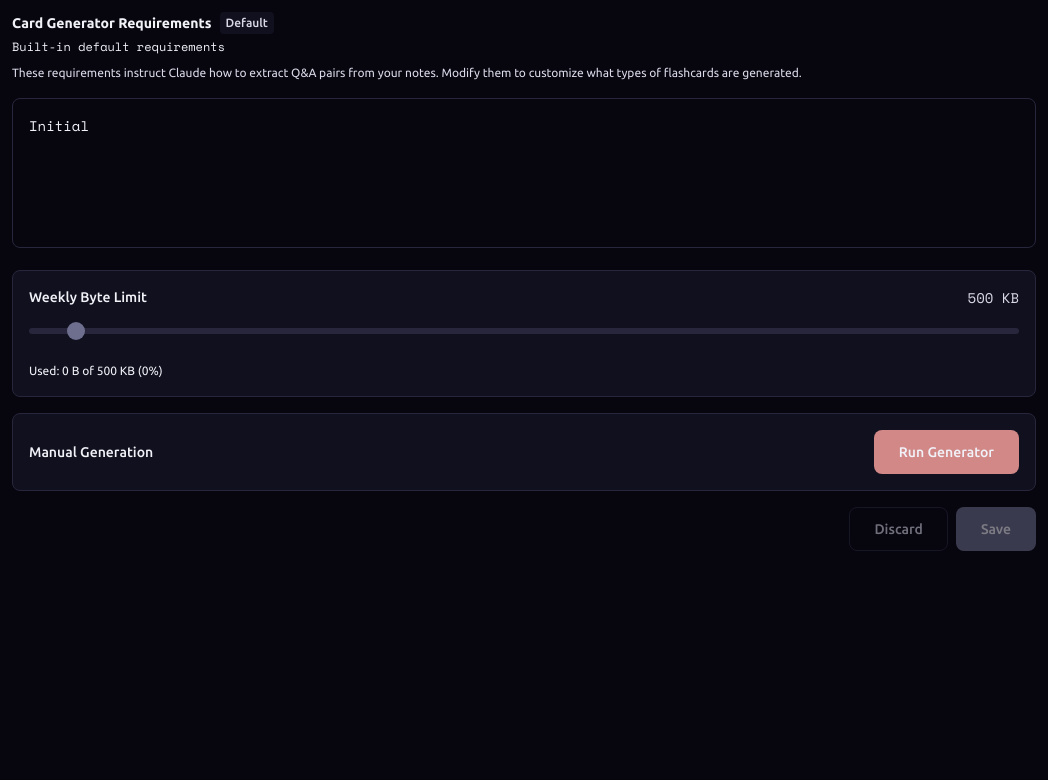
CardGeneratorEditor › saving › shows error on save failure
// Edit and save
Replace the text in the text box with "New content" at (524, 173), box [12, 98, 1036, 248]
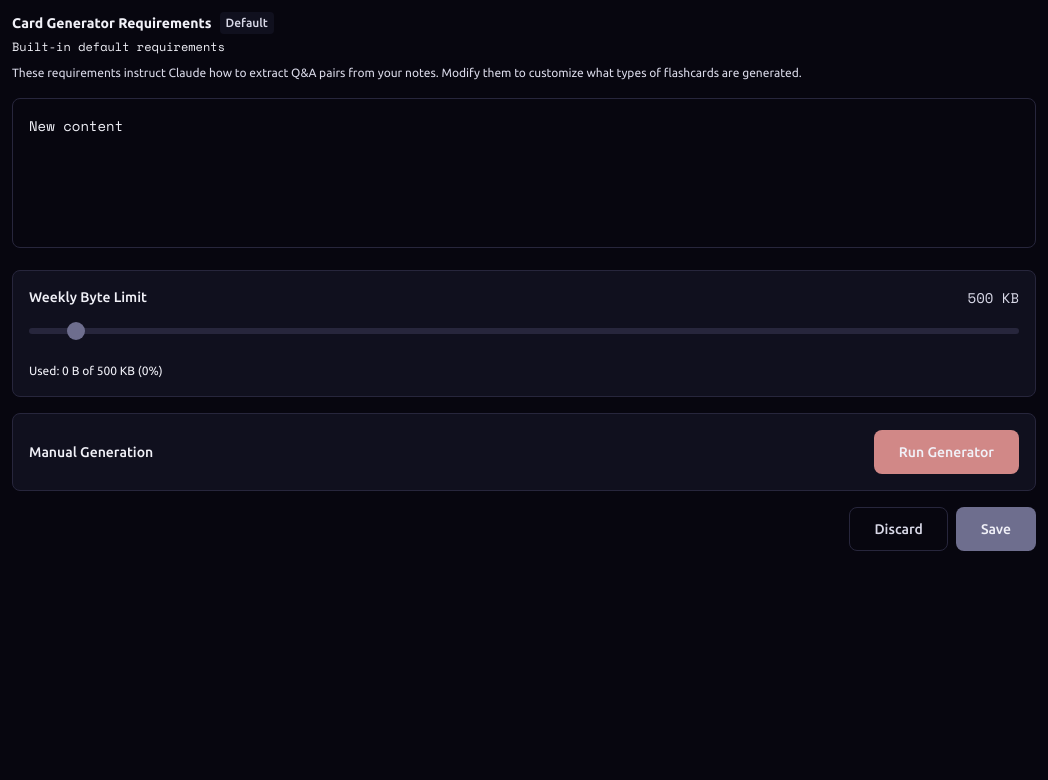
Click the button "Save" at (996, 529), box [956, 507, 1036, 551]
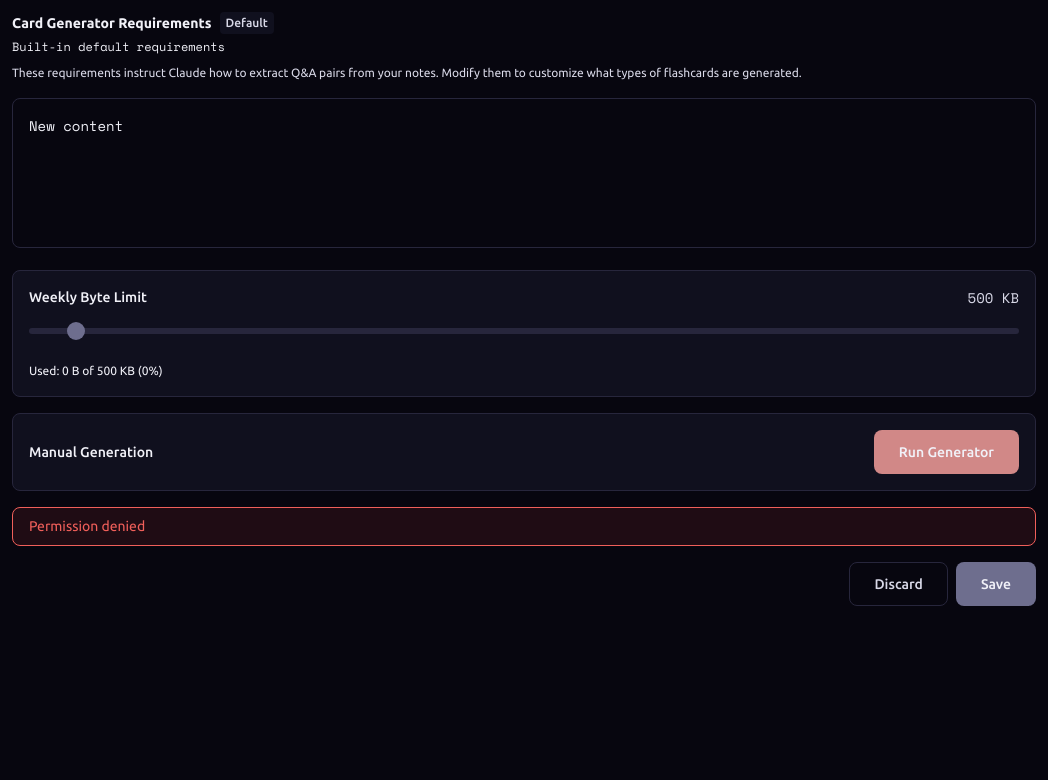
expect the text "Permission denied" is shown: met, box [12, 507, 1036, 546]
